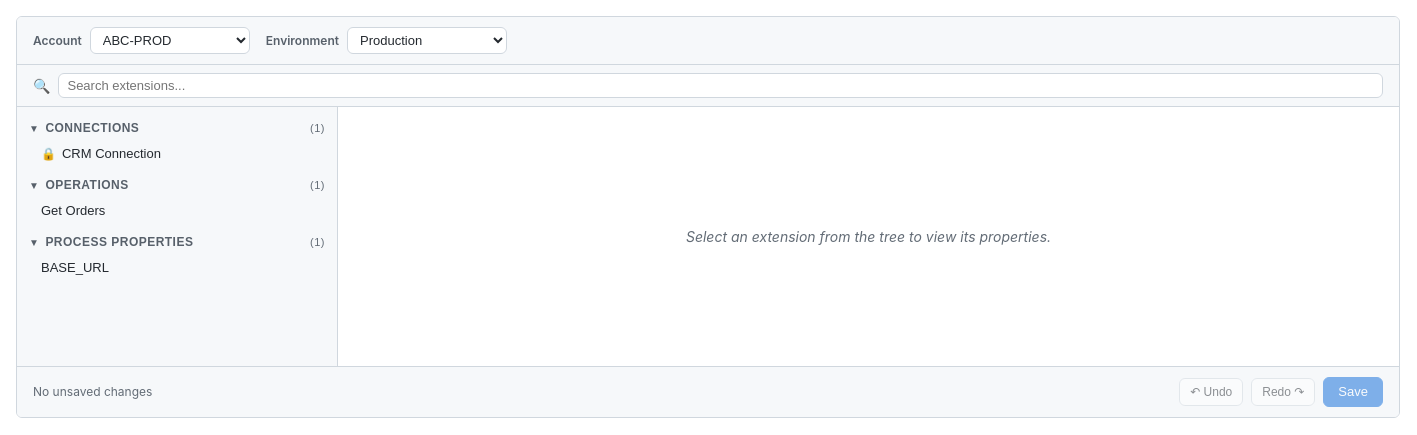
Test: ExtensionEditor › shows property table when a node is selected
// Click the Operations item
Click the button "Get Orders". click: (73, 210)
box: [17,198,337,223]
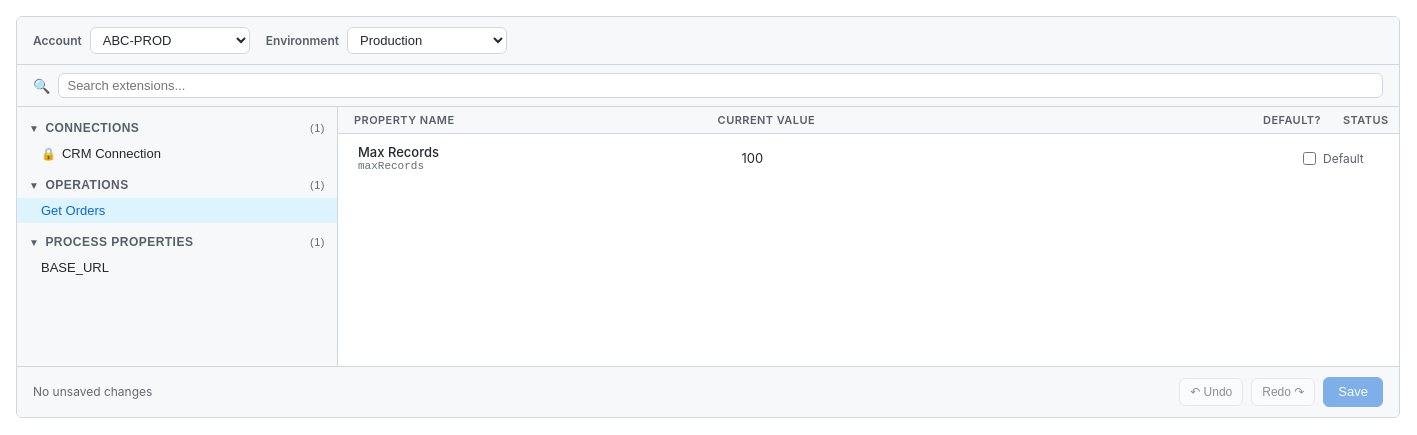
Now the table is shown, box [338,107,1399,183]
